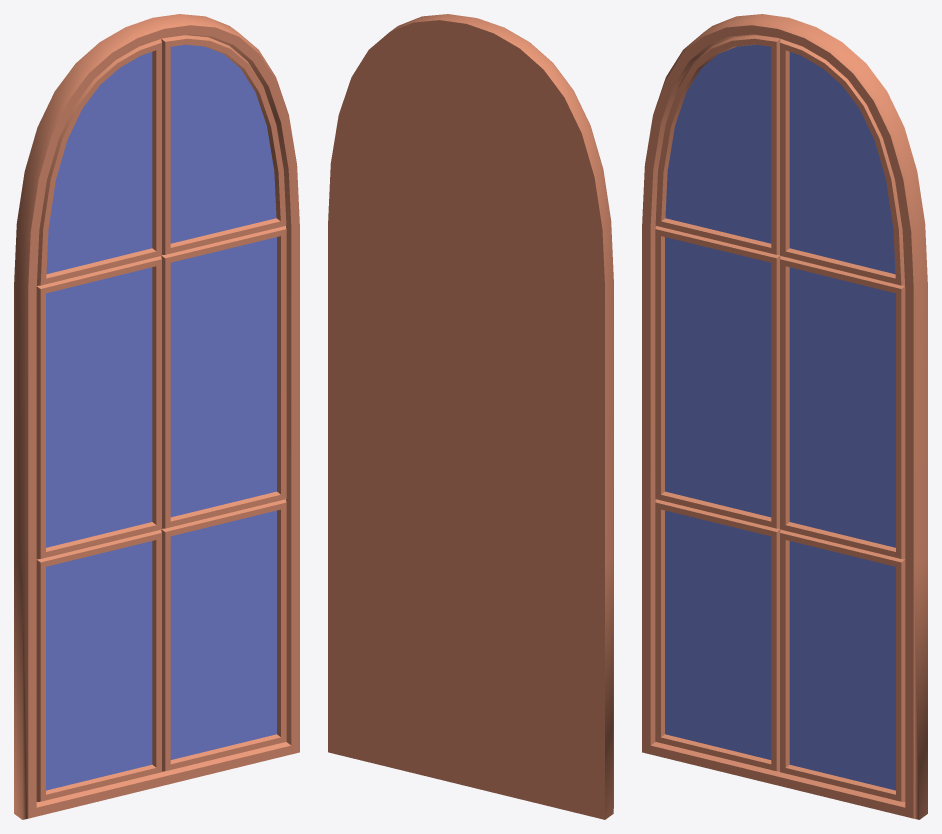
The model's file is SP_House06_Window07.fbx.
3 renders of one model, left to right at view 1: azimuth 30°, elevation 25°; view 2: azimuth 150°, elevation 25°; view 3: azimuth 330°, elevation 25°, orthographic.
Parts seen in each view (by area): view 1: SP_House06_Window07; view 2: SP_House06_Window07; view 3: SP_House06_Window07.
Boxes of the visible parts, box(x1,y1,x2,y2) form: SP_House06_Window07: box(14, 14, 299, 819); SP_House06_Window07: box(328, 14, 613, 819); SP_House06_Window07: box(642, 14, 927, 819).
Bounding box in the file's own units: 0.7973 × 2.1 × 0.0567.
